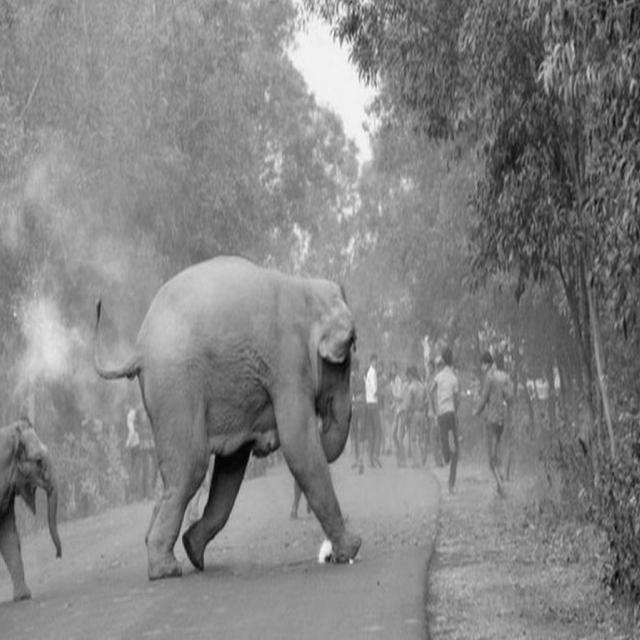Elephant: (91, 252, 362, 580), (0, 417, 62, 603)
